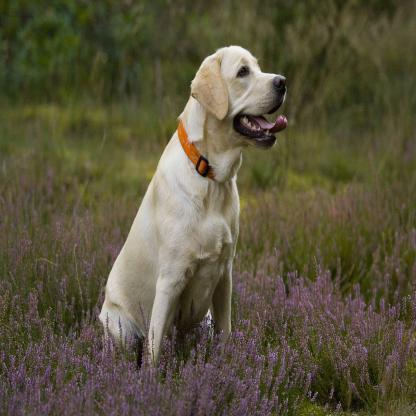Rotveler: (94, 33, 290, 362)
